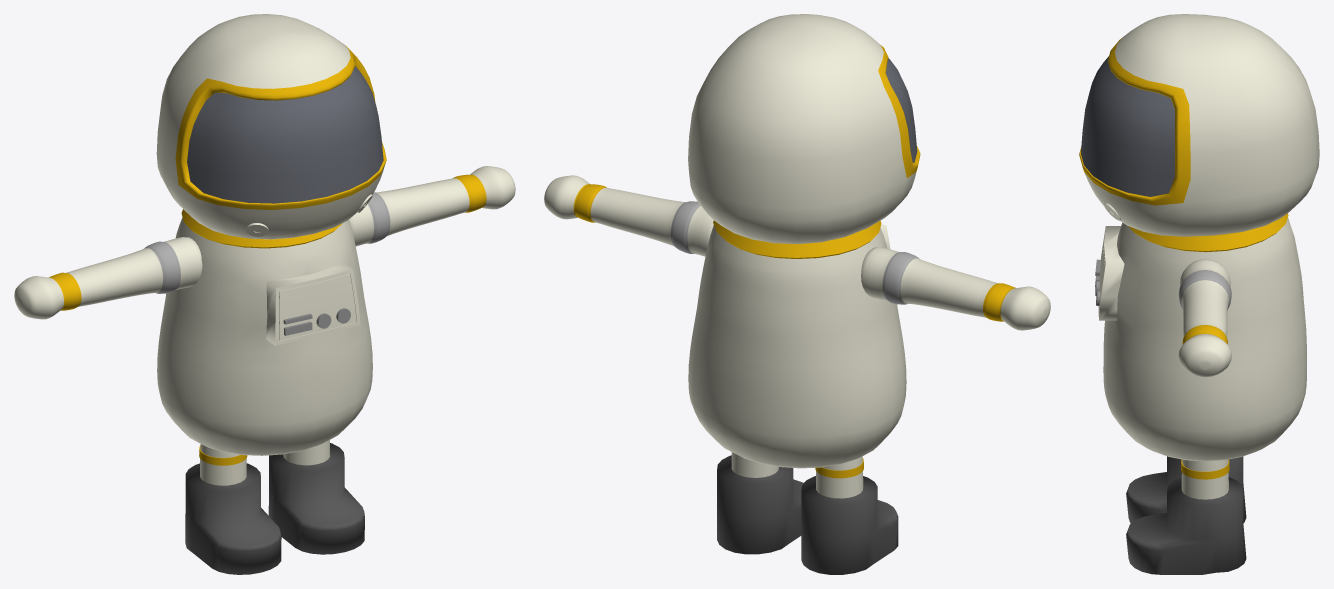
File: Gus.fbx
3 renders of one model, left to right at view 1: azimuth 30°, elevation 25°; view 2: azimuth 150°, elevation 25°; view 3: azimuth 270°, elevation 25°, orthographic.
Parts seen in each view (by area): view 1: Casco, Cuerpo, Pierna_der, Pierna_izq, Brazo_der, Brazo_izq; view 2: Cuerpo, Casco, Pierna_der, Brazo_der, Pierna_izq, Brazo_izq; view 3: Casco, Cuerpo, Pierna_izq, Brazo_izq, Pierna_der.
Boxes of the visible parts, left/top/right/bottom form: Casco: left=156, top=14, right=386, bottom=239; Cuerpo: left=157, top=209, right=372, bottom=455; Pierna_der: left=185, top=444, right=281, bottom=574; Pierna_izq: left=268, top=440, right=364, bottom=554; Brazo_der: left=14, top=237, right=202, bottom=319; Brazo_izq: left=349, top=166, right=515, bottom=246; Cuerpo: left=688, top=220, right=906, bottom=468; Casco: left=688, top=14, right=920, bottom=243; Pierna_der: left=801, top=456, right=898, bottom=574; Brazo_der: left=861, top=247, right=1050, bottom=330; Pierna_izq: left=717, top=452, right=803, bottom=554; Brazo_izq: left=544, top=175, right=713, bottom=256; Casco: left=1079, top=14, right=1319, bottom=236; Cuerpo: left=1095, top=213, right=1306, bottom=461; Pierna_izq: left=1126, top=459, right=1246, bottom=574; Brazo_izq: left=1178, top=259, right=1231, bottom=377; Pierna_der: left=1126, top=456, right=1246, bottom=523.
Size of the model in its own units: 3.73 by 3.71 by 1.57.
